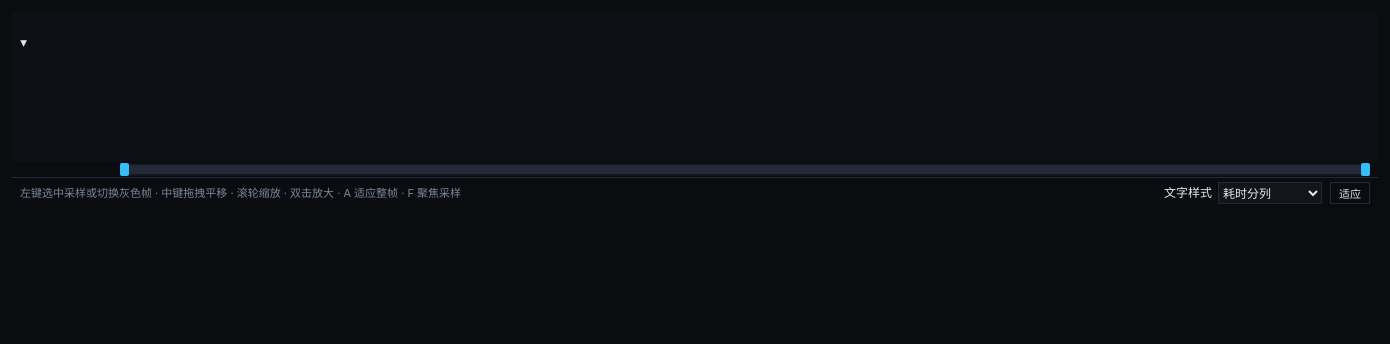
Test: CpuTimeline › keeps the clicked sample details after the pointer leaves and clears them on an empty click
The image size is (1390, 344).
Press the mouse on the element with test id "cpu-timeline-plot" at (695, 87), box x1=12 y1=12 x2=1378 y2=162
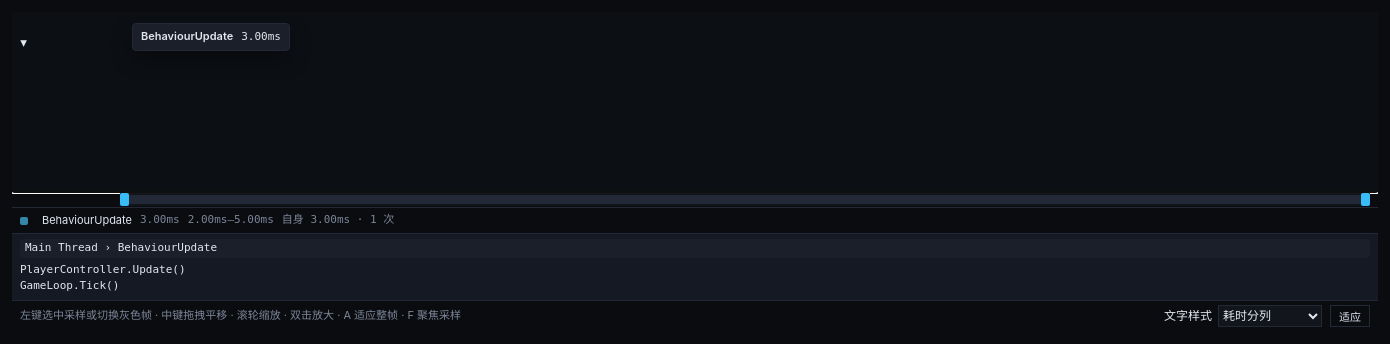
Move the pointer off the element with test id "cpu-timeline-plot", box x1=12 y1=12 x2=1378 y2=192
Expected: the element with test id "cpu-timeline-pinned-tip" reads "BehaviourUpdate 3.00ms", x1=132 y1=23 x2=290 y2=50
Expected: the element with test id "cpu-timeline-status" shows "BehaviourUpdate", x1=42 y1=213 x2=132 y2=227
Expected: the element with test id "cpu-timeline-status" shows "3.00ms", x1=140 y1=213 x2=180 y2=226
Press the mouse on the element with test id "cpu-timeline-plot" at (695, 102), box x1=12 y1=12 x2=1378 y2=192
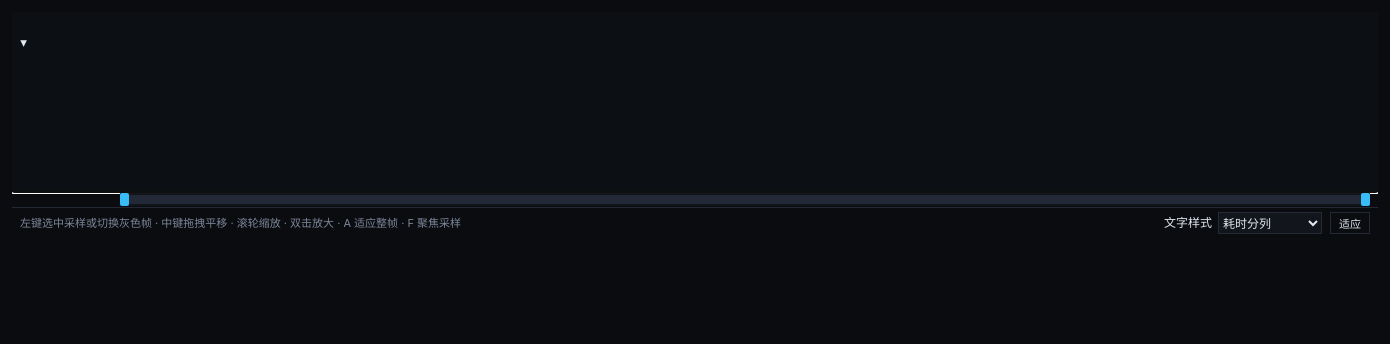
Expected: the element with test id "cpu-timeline-pinned-tip" is gone
Expected: the element "采样调用栈" is gone
